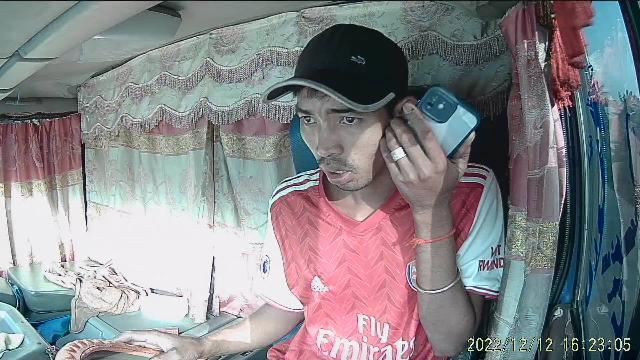PhoneUse: (406, 84, 482, 160)
SafeDriving: (336, 112, 366, 128), (296, 108, 318, 127)
